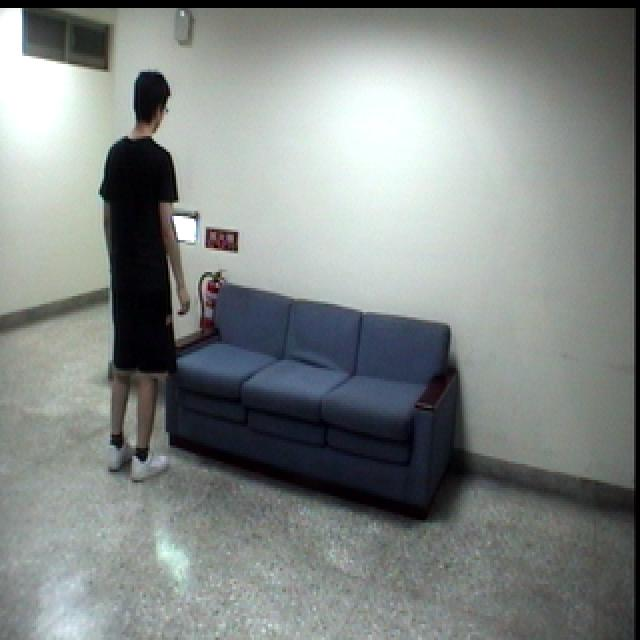stand: (90, 70, 194, 486)
